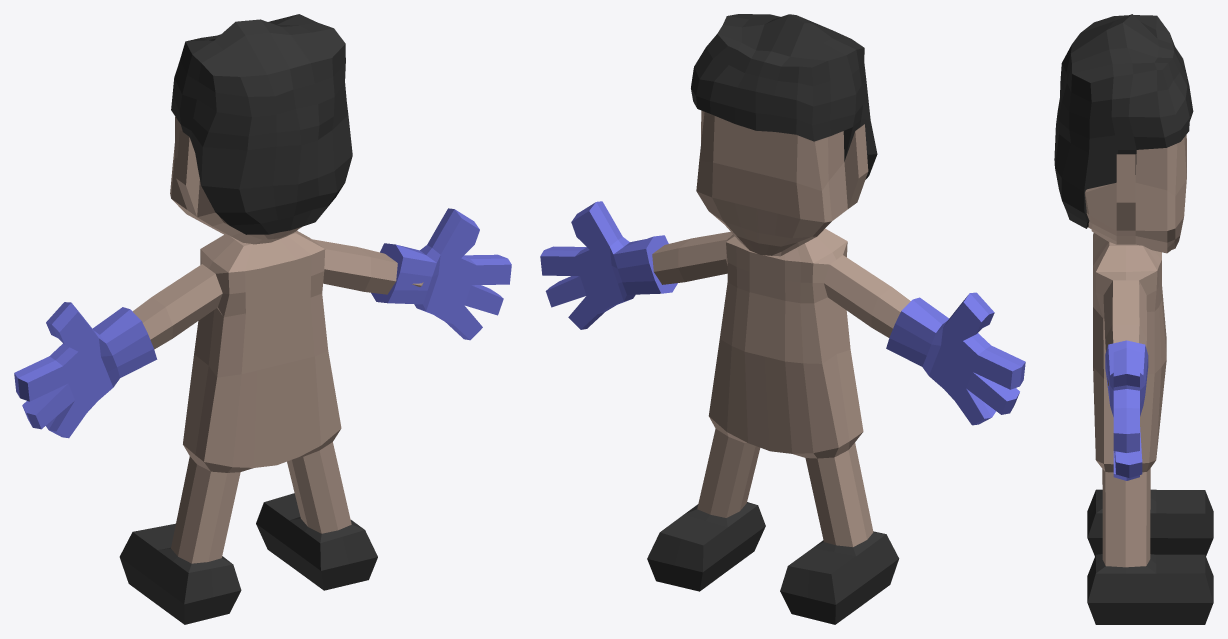
The model's file is new_warrior.fbx.
3 renders of one model, left to right at view 1: azimuth 30°, elevation 25°; view 2: azimuth 150°, elevation 25°; view 3: azimuth 270°, elevation 25°, orthographic. The views are drawn at different scales.
Parts seen in each view (by area): view 1: Cube, Cube.001, Cube.003, Cube.004, Cube.002; view 2: Cube, Cube.001, Cube.002, Cube.003, Cube.004; view 3: Cube, Cube.001, Cube.002, Cube.004.
Part boxes in pixels (left/top/right/bottom): Cube: left=119, top=231, right=423, bottom=624; Cube.001: left=171, top=14, right=352, bottom=234; Cube.003: left=14, top=302, right=157, bottom=438; Cube.004: left=371, top=208, right=511, bottom=340; Cube.002: left=170, top=117, right=301, bottom=244; Cube: left=647, top=228, right=910, bottom=624; Cube.001: left=691, top=14, right=877, bottom=179; Cube.002: left=696, top=110, right=868, bottom=256; Cube.003: left=886, top=292, right=1025, bottom=425; Cube.004: left=540, top=201, right=677, bottom=329; Cube: left=1087, top=233, right=1213, bottom=624; Cube.001: left=1054, top=14, right=1193, bottom=228; Cube.002: left=1085, top=135, right=1186, bottom=253; Cube.004: left=1105, top=340, right=1148, bottom=480.
Bounding box in the file's own units: 429 × 480 × 124.
